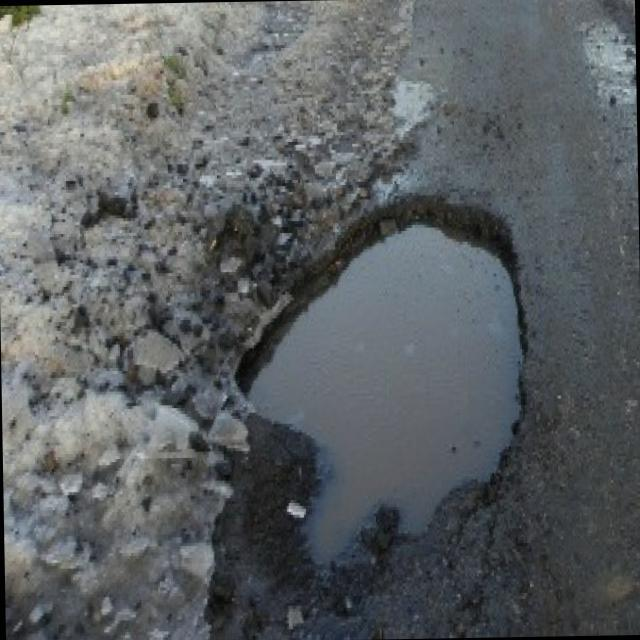Pothole: (226, 182, 546, 586)
